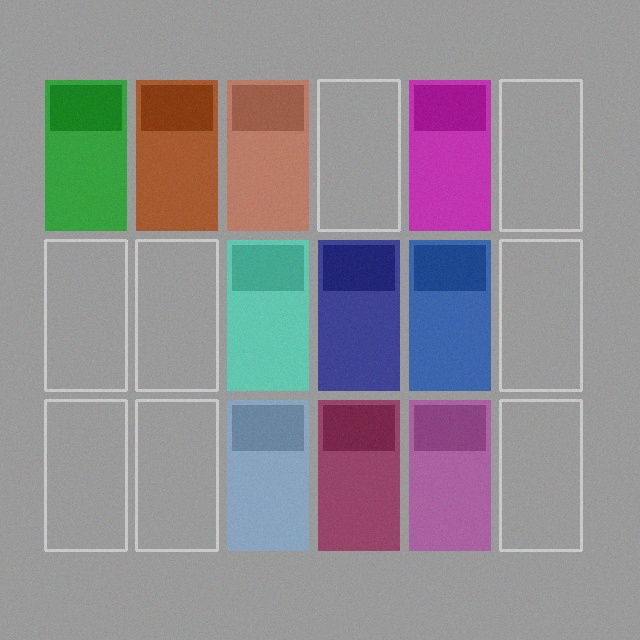space-empty: (318, 80, 399, 230), (500, 80, 581, 230), (45, 240, 126, 390), (136, 240, 217, 390), (500, 240, 581, 390), (45, 400, 126, 550), (136, 400, 217, 550), (500, 400, 581, 550)
space-occupied: (45, 80, 126, 230), (136, 80, 217, 230), (227, 80, 308, 230), (409, 80, 490, 230), (227, 240, 308, 390), (318, 240, 399, 390), (409, 240, 490, 390), (227, 400, 308, 550), (318, 400, 399, 550), (409, 400, 490, 550)
